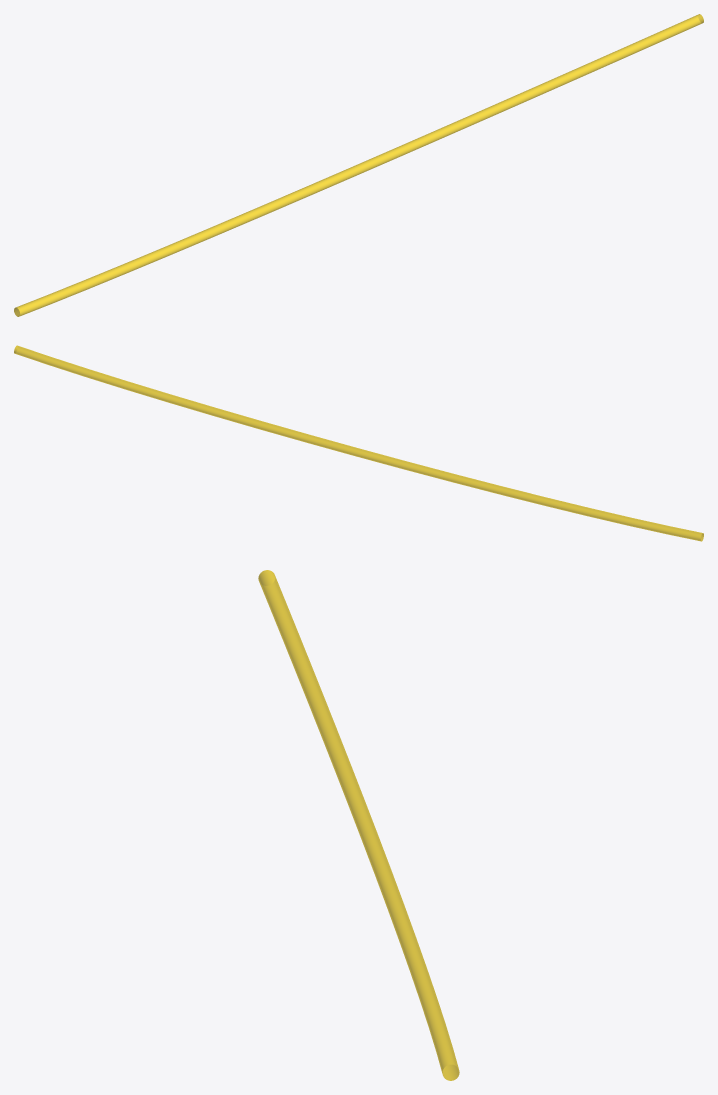
The model's file is Event_15818458_track_59.fbx.
3 views of the same model, one above another, from view 1: azimuth 30°, elevation 25°; view 2: azimuth 150°, elevation 25°; view 3: azimuth 270°, elevation 25° (orthographic). The views are drawn at different scales.
Parts seen in each view (by area): view 1: Model; view 2: Model; view 3: Model.
Part boxes in pixels (left/top/right/bottom): Model: left=14, top=14, right=703, bottom=316; Model: left=14, top=345, right=703, bottom=541; Model: left=258, top=570, right=459, bottom=1080.
Bounding box in the file's own units: 3.44 × 0.3741 × 0.4676.
